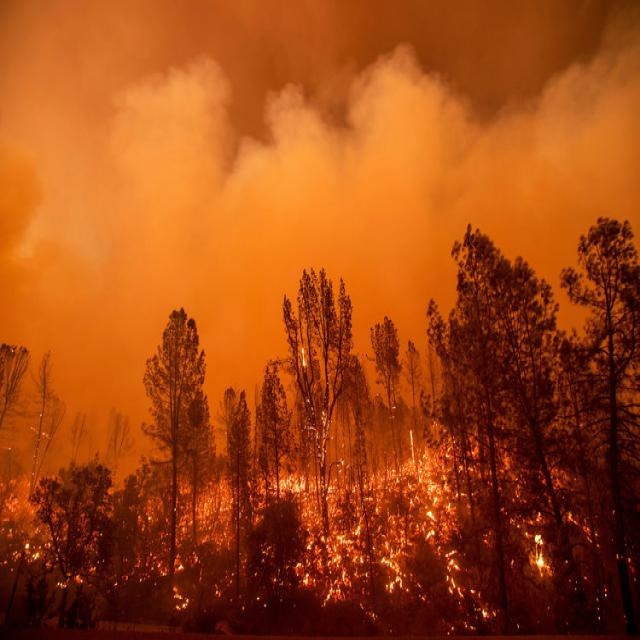Fire: (1, 426, 640, 640)
Smoke: (19, 59, 640, 459)
